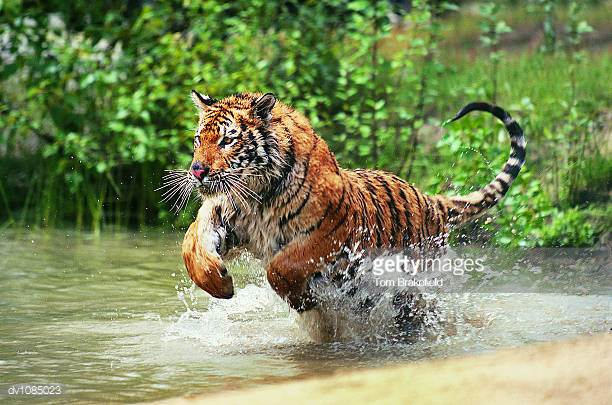tiger: (157, 87, 527, 351)
